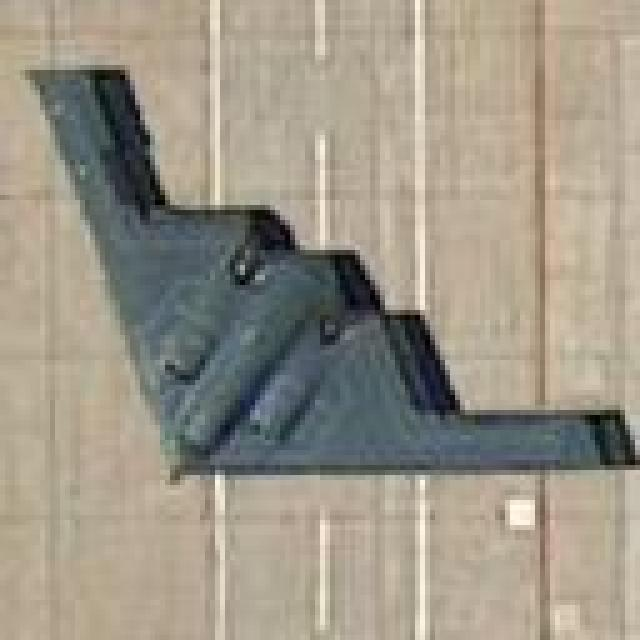B-2_TopDown: (20, 60, 635, 485)
